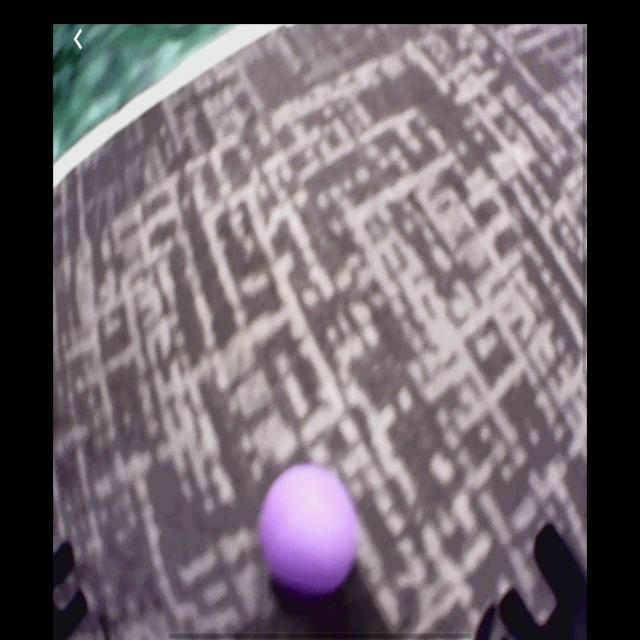ball: (260, 462, 360, 600)
